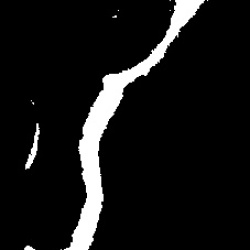crack: (23, 3, 204, 248), (23, 122, 40, 171)
